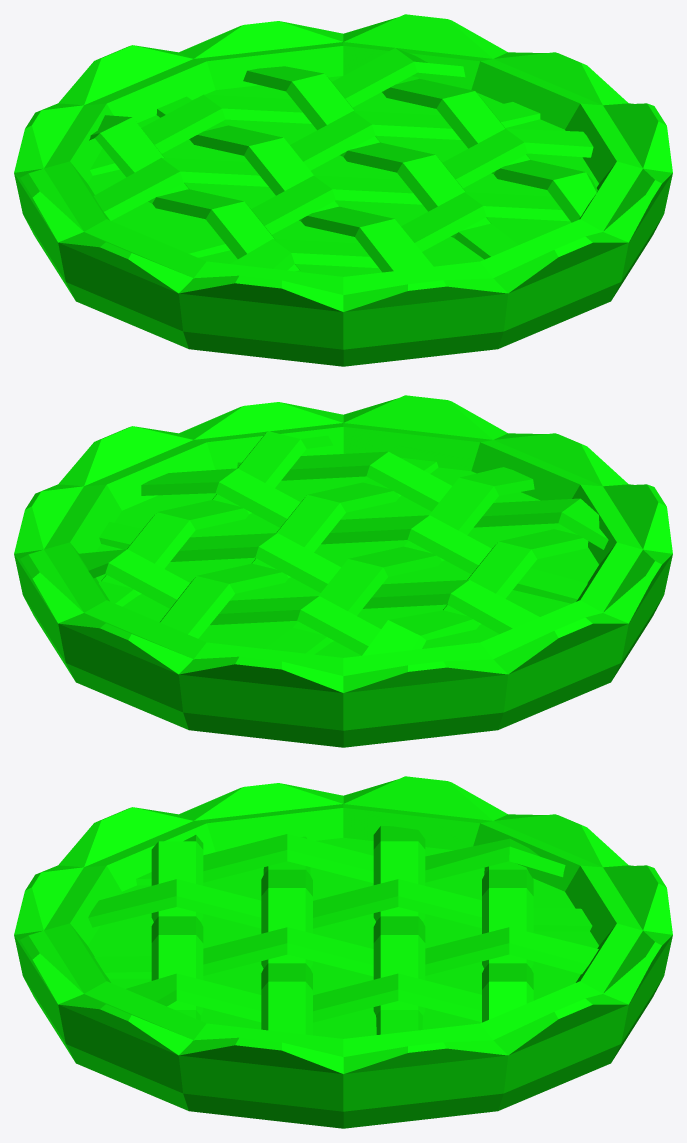
File: SM_Pie_Apple.fbx
The picture shows the model from 3 angles, top to bottom: view 1: azimuth 30°, elevation 25°; view 2: azimuth 150°, elevation 25°; view 3: azimuth 270°, elevation 25°; orthographic projection.
Visible parts, largest first — view 1: pie-apple; view 2: pie-apple; view 3: pie-apple.
Part boxes in pixels (bbox=[...]): pie-apple: bbox=[14, 14, 672, 366]; pie-apple: bbox=[14, 395, 672, 747]; pie-apple: bbox=[14, 776, 672, 1128].
Bounding box in the file's own units: 0.4436 × 0.0663 × 0.4436.
